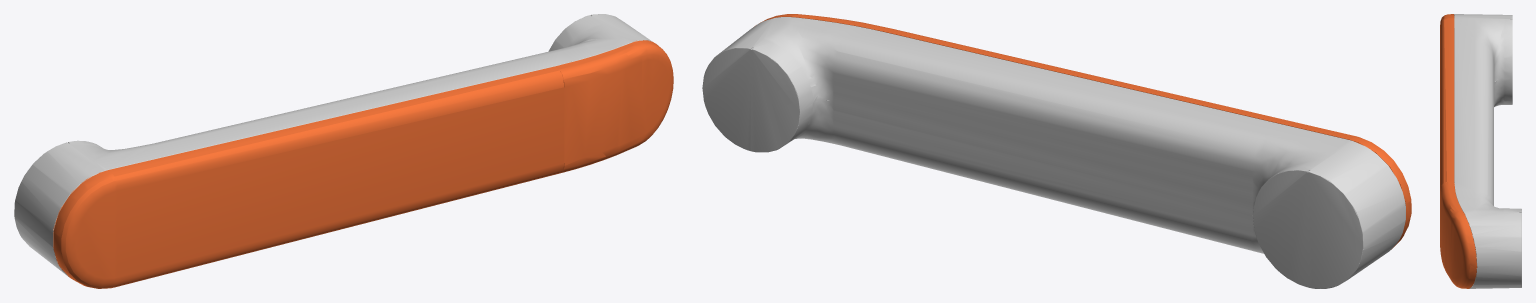
3 views of the same model, side by side, from view 1: azimuth 30°, elevation 25°; view 2: azimuth 150°, elevation 25°; view 3: azimuth 270°, elevation 25° (orthographic). The views are drawn at different scales.
Visible parts, largest first — view 1: null; view 2: null; view 3: null.
Part boxes in pixels (left/top/right/bottom): null: left=14, top=14, right=673, bottom=288; null: left=702, top=14, right=1411, bottom=288; null: left=1440, top=14, right=1521, bottom=288.
Size of the model in its own units: 0.4892 by 0.0846 by 0.0752.
